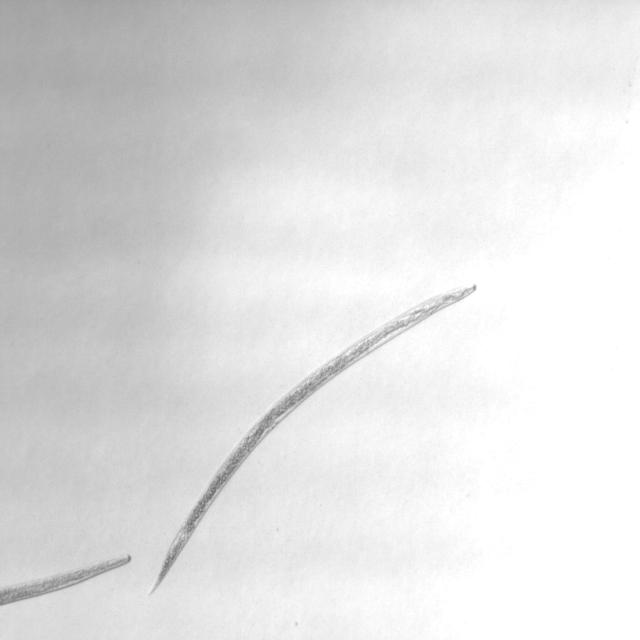Radopholus: (146, 271, 494, 605)
